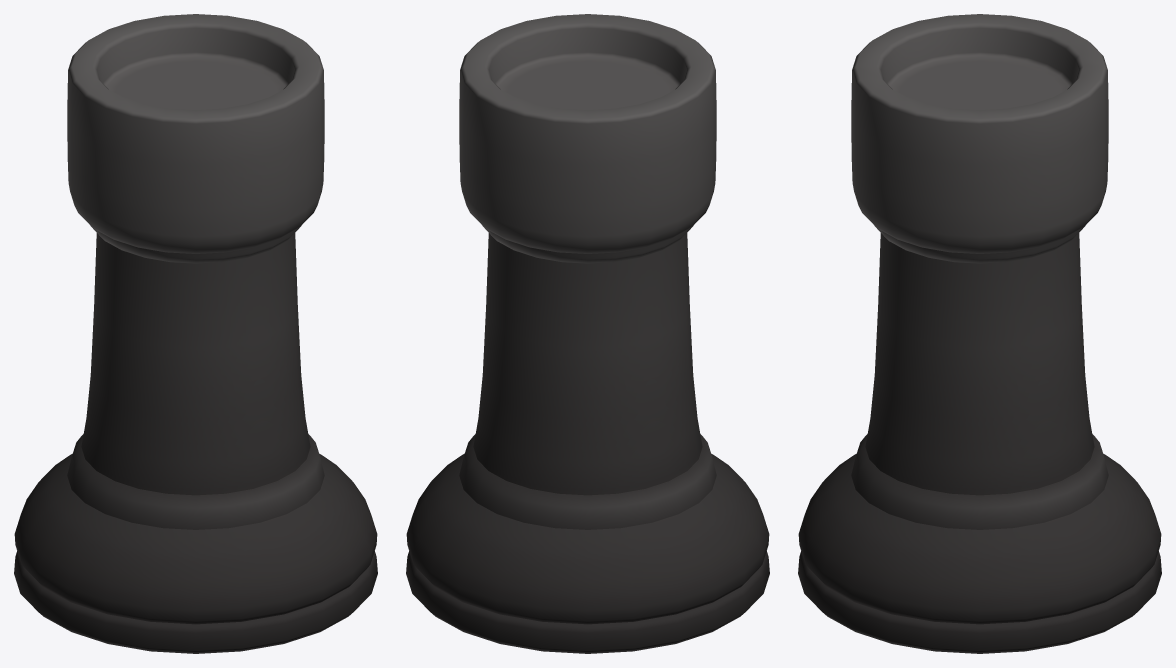
File: Chess_Black_Rook_01.fbx
3 renders of one model, left to right at view 1: azimuth 30°, elevation 25°; view 2: azimuth 150°, elevation 25°; view 3: azimuth 270°, elevation 25°, orthographic.
Visible parts, largest first — view 1: Chess_Black_Rook_01; view 2: Chess_Black_Rook_01; view 3: Chess_Black_Rook_01.
Part boxes in pixels (bbox=[...]): Chess_Black_Rook_01: bbox=[14, 14, 377, 653]; Chess_Black_Rook_01: bbox=[406, 14, 769, 653]; Chess_Black_Rook_01: bbox=[798, 14, 1161, 653].
Bounding box in the file's own units: 3.69 × 5.81 × 3.69.
